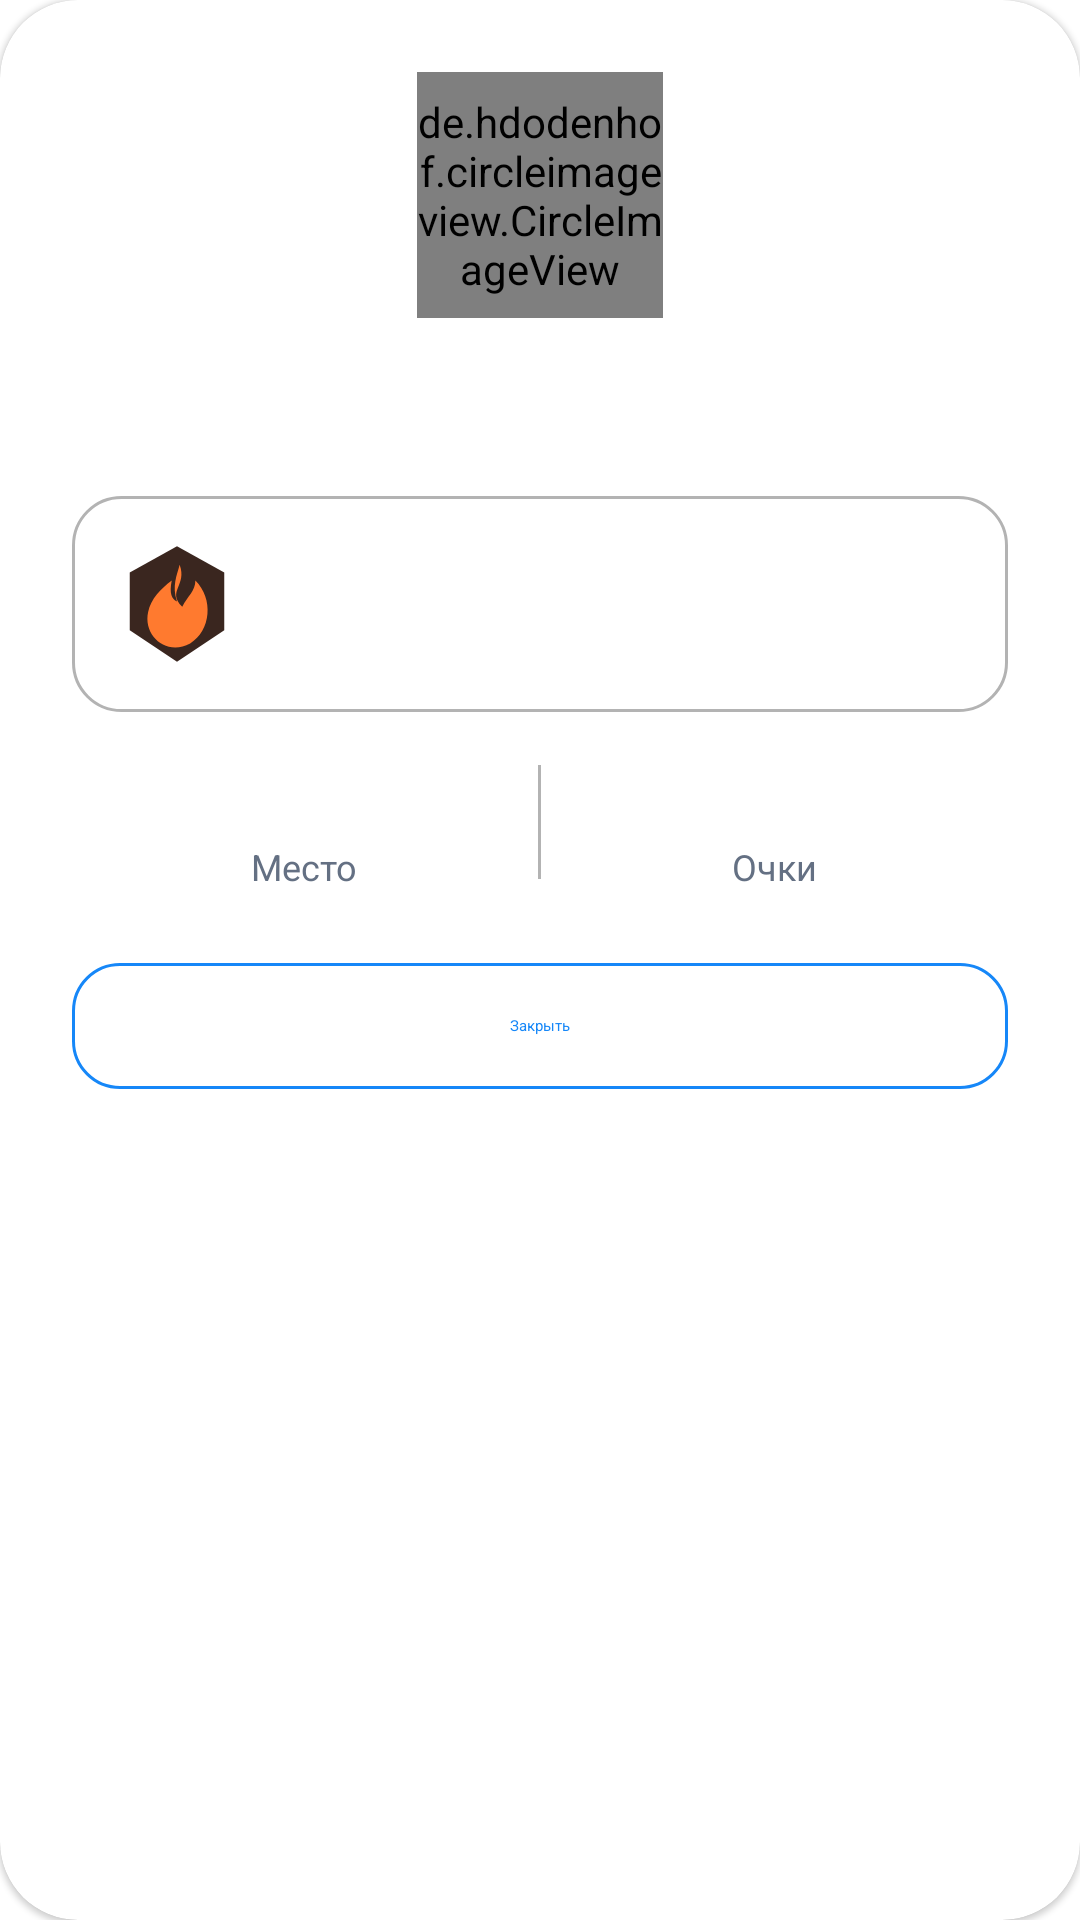

Icon click points for this 1080px x 1920px phone screenshot, format (x,y):
league ember: (177,604)
